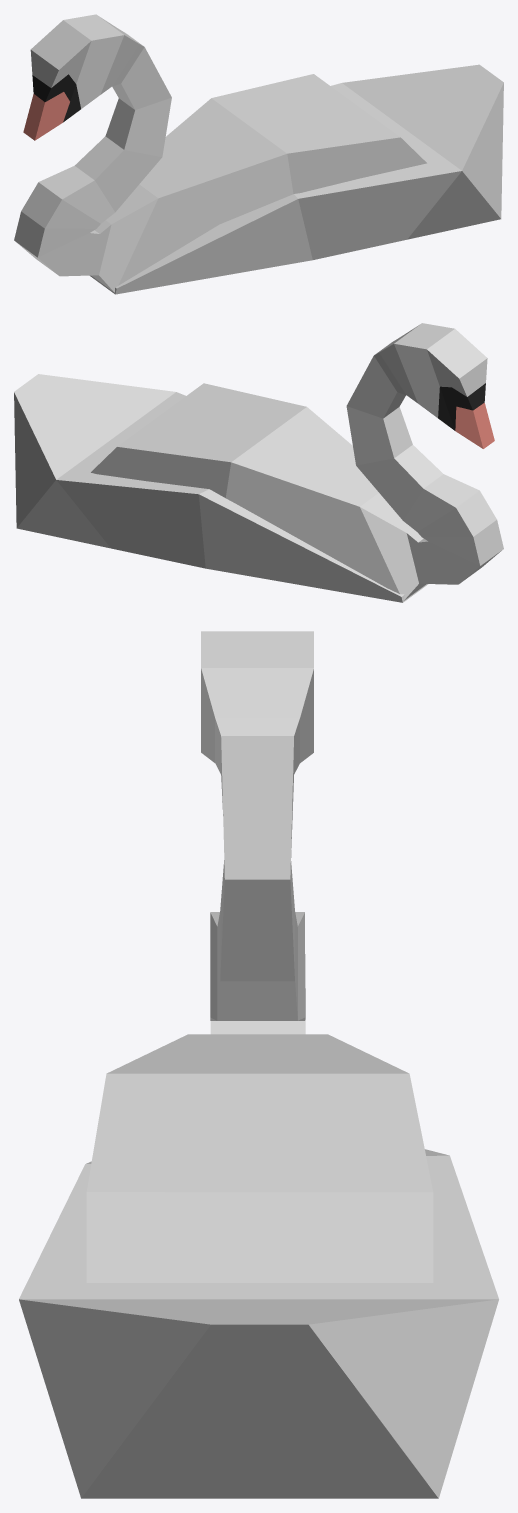
The model's file is Swan.glb.
3 views of the same model, one above another, from view 1: azimuth 30°, elevation 25°; view 2: azimuth 150°, elevation 25°; view 3: azimuth 270°, elevation 25° (orthographic). The views are drawn at different scales.
Visible parts, largest first — view 1: Cube; view 2: Cube; view 3: Cube.
Boxes of the visible parts, x1,y1,x2,y2 form: Cube: [14, 14, 503, 294]; Cube: [14, 323, 503, 602]; Cube: [19, 631, 498, 1498].
Bounding box in the file's own units: 5.21 × 2.66 × 2.33.
